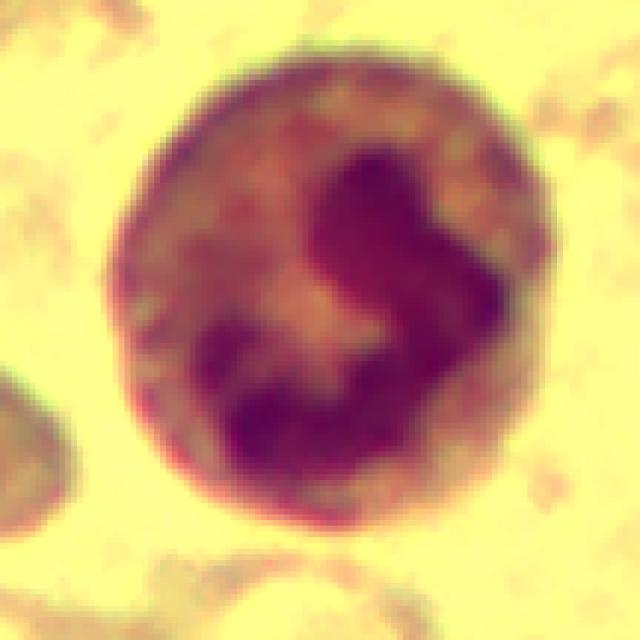WBC: (101, 40, 575, 554)
